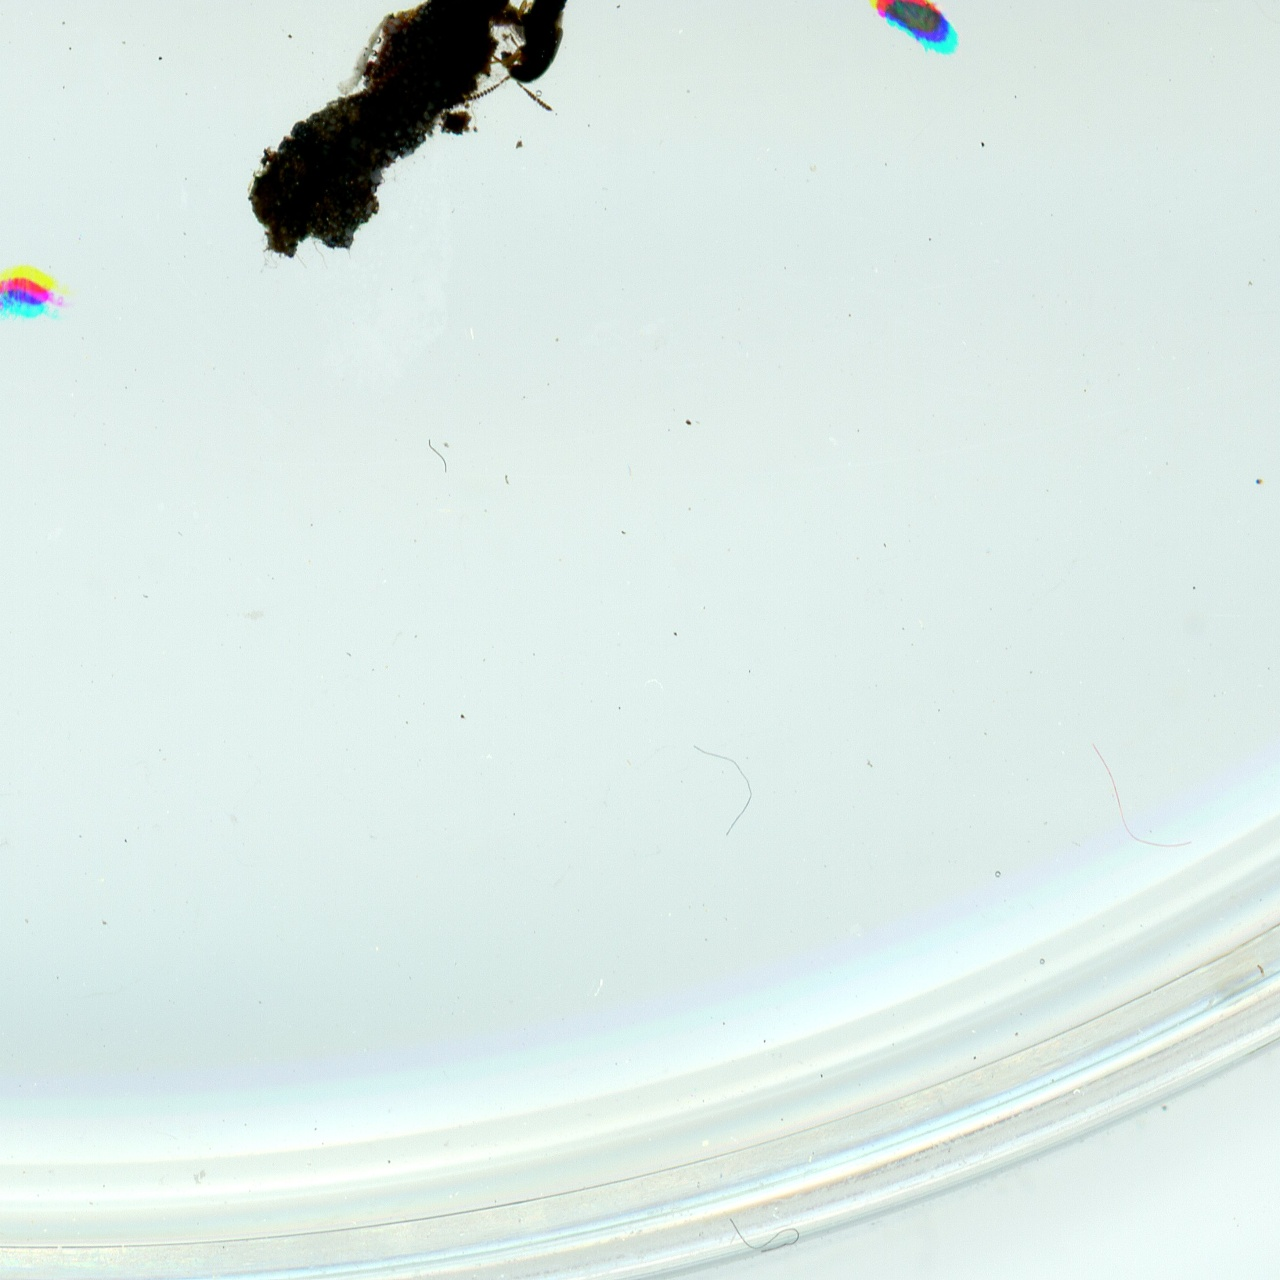arthropod: (449, 0, 614, 135), (0, 259, 81, 363), (858, 0, 959, 60)
